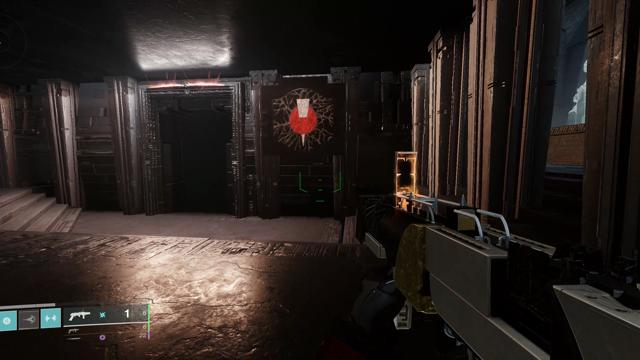kill: (272, 89, 333, 151)
